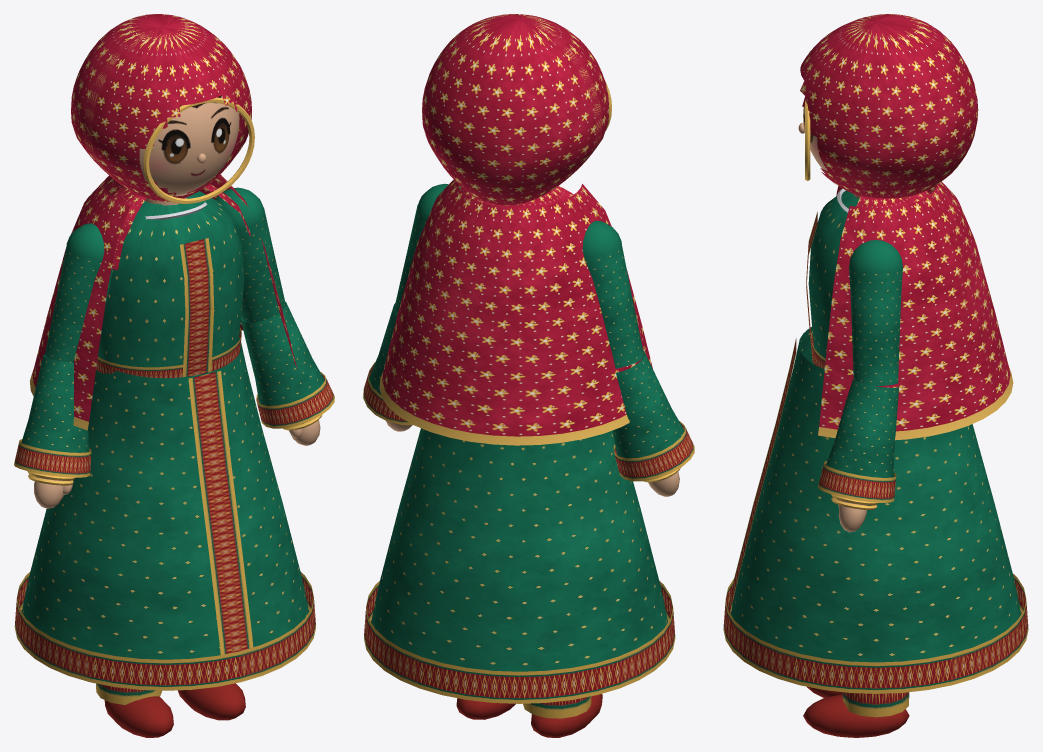
Rendered from girl.glb.
3 renders of one model, left to right at view 1: azimuth 30°, elevation 25°; view 2: azimuth 150°, elevation 25°; view 3: azimuth 270°, elevation 25°, orthographic. The views are drawn at different scales.
Visible parts, largest first — view 1: Skirt, Head, Spine, ForearmL, ForearmR, ScarfTail, ArmR, ArmL, LegR, LegL, ScarfWrap; view 2: Skirt, ScarfTail, Head, ForearmR, ArmR, LegR, ForearmL, ArmL, LegL, ScarfWrap; view 3: Skirt, ScarfTail, Head, ForearmL, ArmL, Spine, LegL, ScarfWrap.
Part boxes in pixels (<box>): Skirt: <box>14,338,315,690</box>; Head: <box>71,14,254,205</box>; Spine: <box>96,191,244,378</box>; ForearmL: <box>241,302,334,445</box>; ForearmR: <box>14,354,91,508</box>; ScarfTail: <box>30,174,297,430</box>; ArmR: <box>45,223,113,362</box>; ArmL: <box>215,187,285,322</box>; LegR: <box>96,683,173,737</box>; LegL: <box>178,683,245,720</box>; ScarfWrap: <box>111,183,250,270</box>; Skirt: <box>364,428,675,703</box>; ScarfTail: <box>379,179,652,445</box>; Head: <box>422,14,611,205</box>; ForearmR: <box>612,350,694,496</box>; ArmR: <box>582,220,643,368</box>; LegR: <box>523,694,602,737</box>; ForearmL: <box>363,303,412,431</box>; ArmL: <box>395,183,459,312</box>; LegL: <box>456,698,515,719</box>; ScarfWrap: <box>460,186,573,207</box>; Skirt: <box>723,327,1028,693</box>; ScarfTail: <box>818,181,1013,440</box>; Head: <box>798,14,978,198</box>; ForearmL: <box>818,379,898,532</box>; ArmL: <box>849,240,902,385</box>; Spine: <box>806,188,859,368</box>; LegL: <box>803,692,909,737</box>; ScarfWrap: <box>841,188,930,208</box>.
Size of the model in its own units: 0.6484 by 1.37 by 0.544.
Materials: 9 (4 with a texture image).
